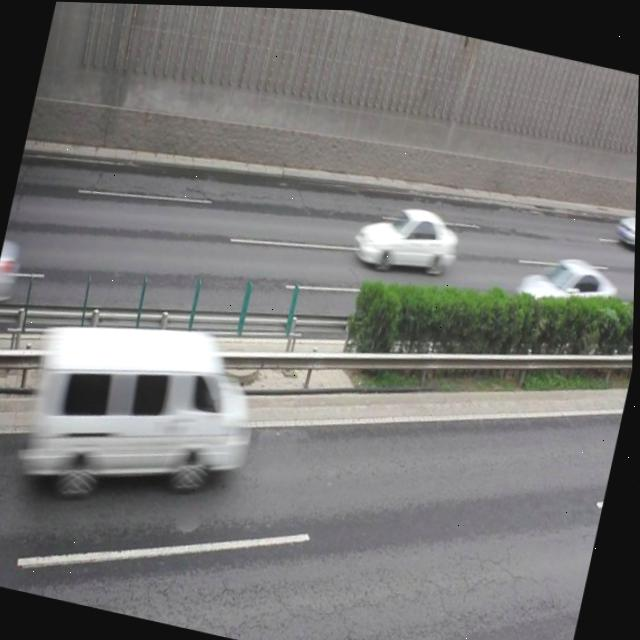car: (513, 242, 622, 332), (352, 194, 464, 280), (0, 232, 27, 307), (613, 193, 637, 248)
truck: (16, 295, 272, 533)
